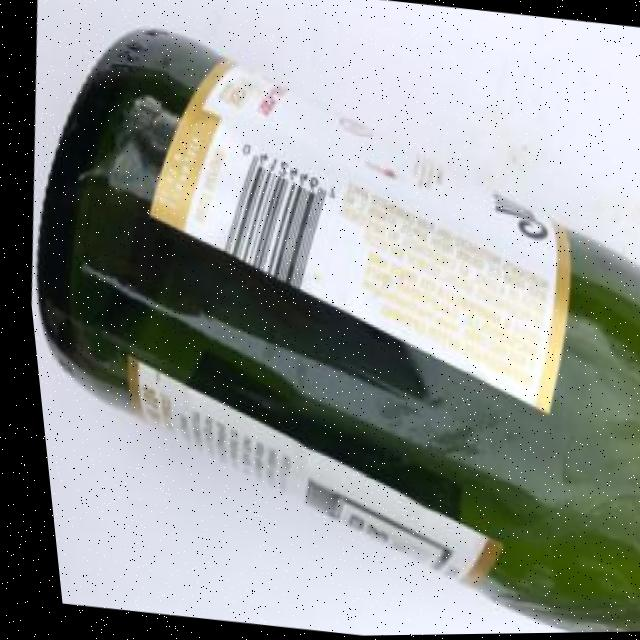glass: (1, 2, 640, 640)
